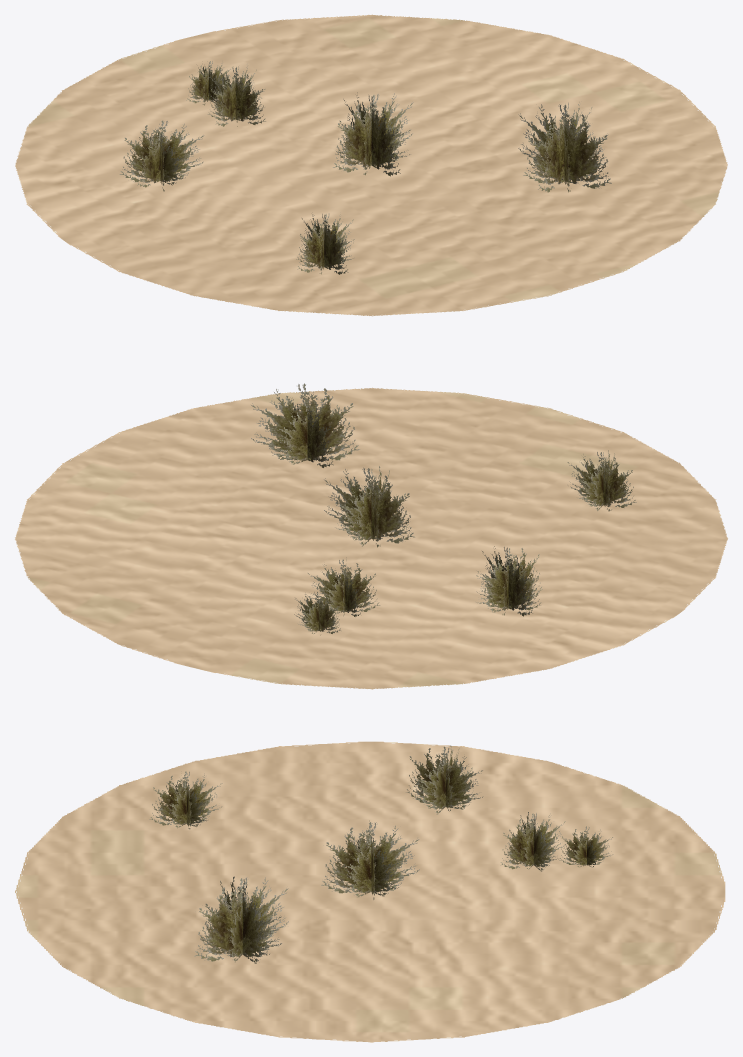
Rendered from desert_bush.glb.
3 renders of one model, top to bottom at view 1: azimuth 30°, elevation 25°; view 2: azimuth 150°, elevation 25°; view 3: azimuth 270°, elevation 25°, orthographic.
Visible parts, largest first — view 1: Object_2; view 2: Object_2; view 3: Object_2.
Boxes of the visible parts, x1,y1,x2,y2 form: Object_2: (15,14,727,316); Object_2: (15,383,727,689); Object_2: (15,741,725,1042).
Size of the model in its own units: 6.87 by 0.961 by 6.87.
Materials: 1 (1 with a texture image).
